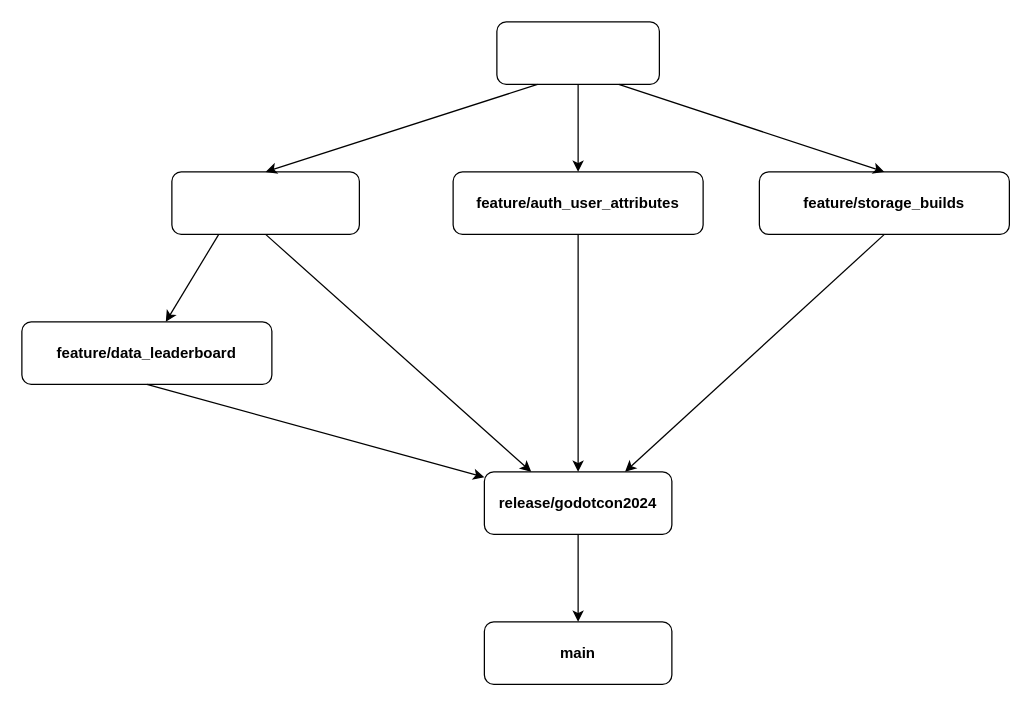
Image size: 1031x706. Some labels were removed from this diagram. Here are the shapes that lost their labels. From the top down, the box of each, then its label:
(496, 21, 659, 84): release/template
(171, 171, 359, 234): feature/auth_sign_in
